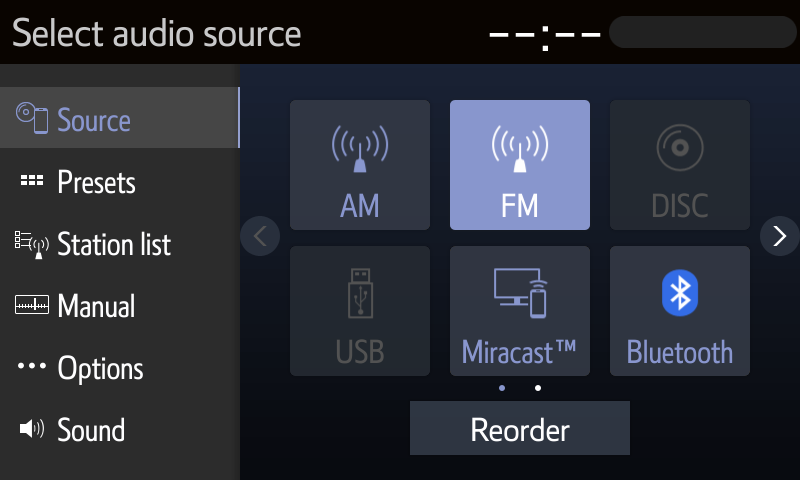touchPart: (449, 100, 588, 231), (289, 99, 428, 228), (609, 247, 748, 376), (450, 247, 590, 373), (409, 399, 630, 456), (4, 225, 175, 266), (6, 285, 142, 325), (6, 165, 139, 202), (8, 353, 148, 386), (8, 414, 133, 447), (758, 217, 799, 257)
untouchPart: (610, 99, 746, 227), (292, 247, 428, 374), (5, 14, 302, 54), (609, 14, 796, 49), (8, 99, 135, 138), (482, 17, 604, 53), (240, 217, 280, 257)
